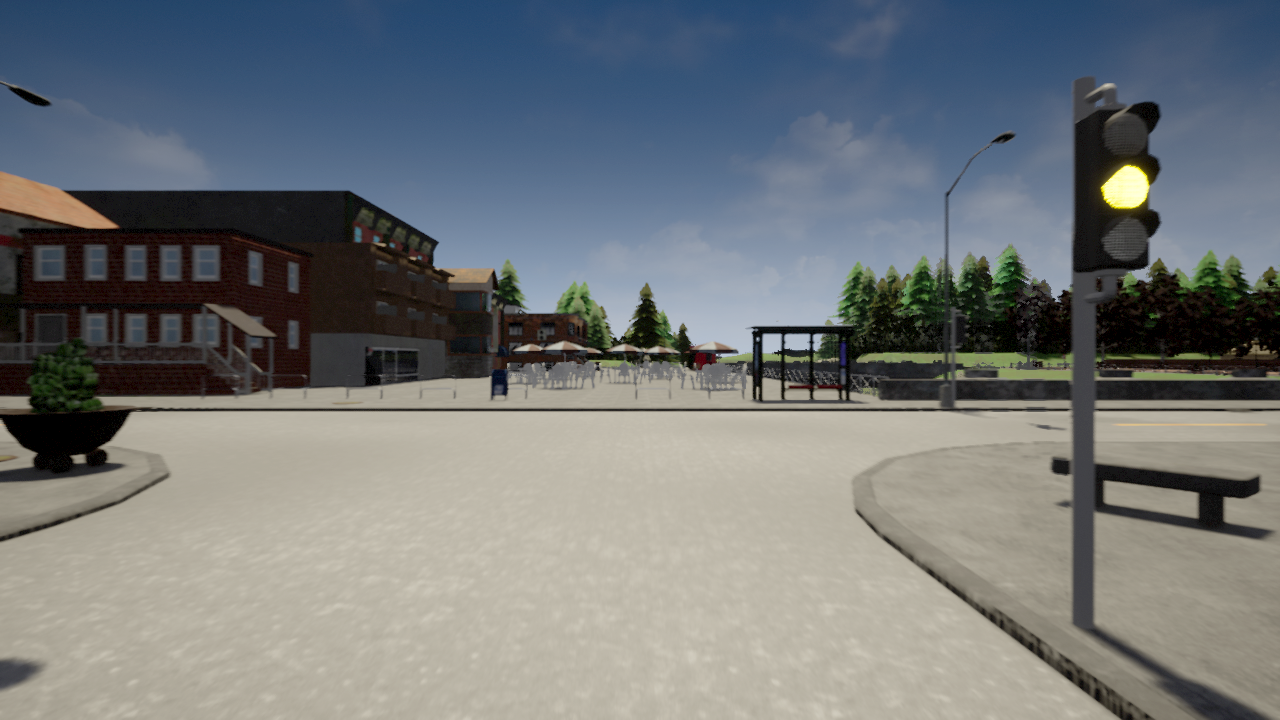yellow: (1079, 103, 1162, 271)
